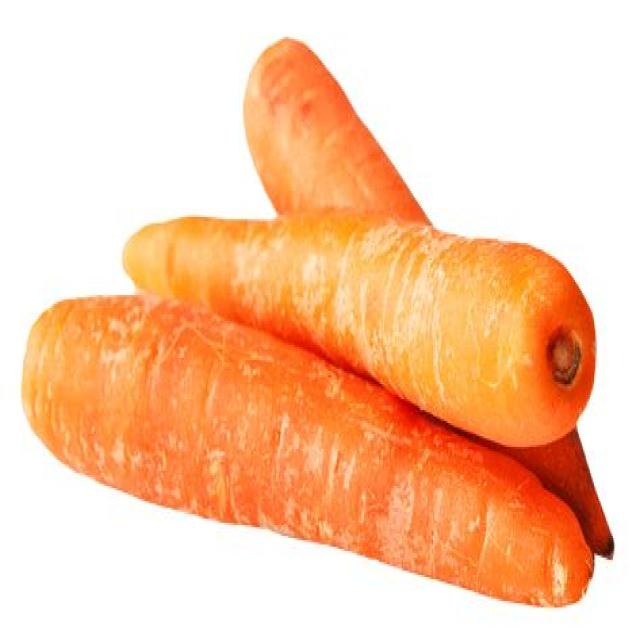Fresh_Carrot: (24, 318, 596, 597), (117, 220, 592, 443)
